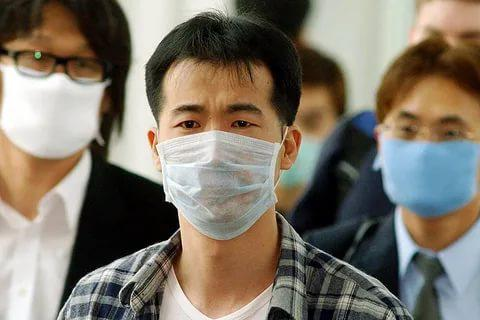mask: (155, 54, 282, 237), (1, 9, 114, 159), (379, 71, 476, 218)
